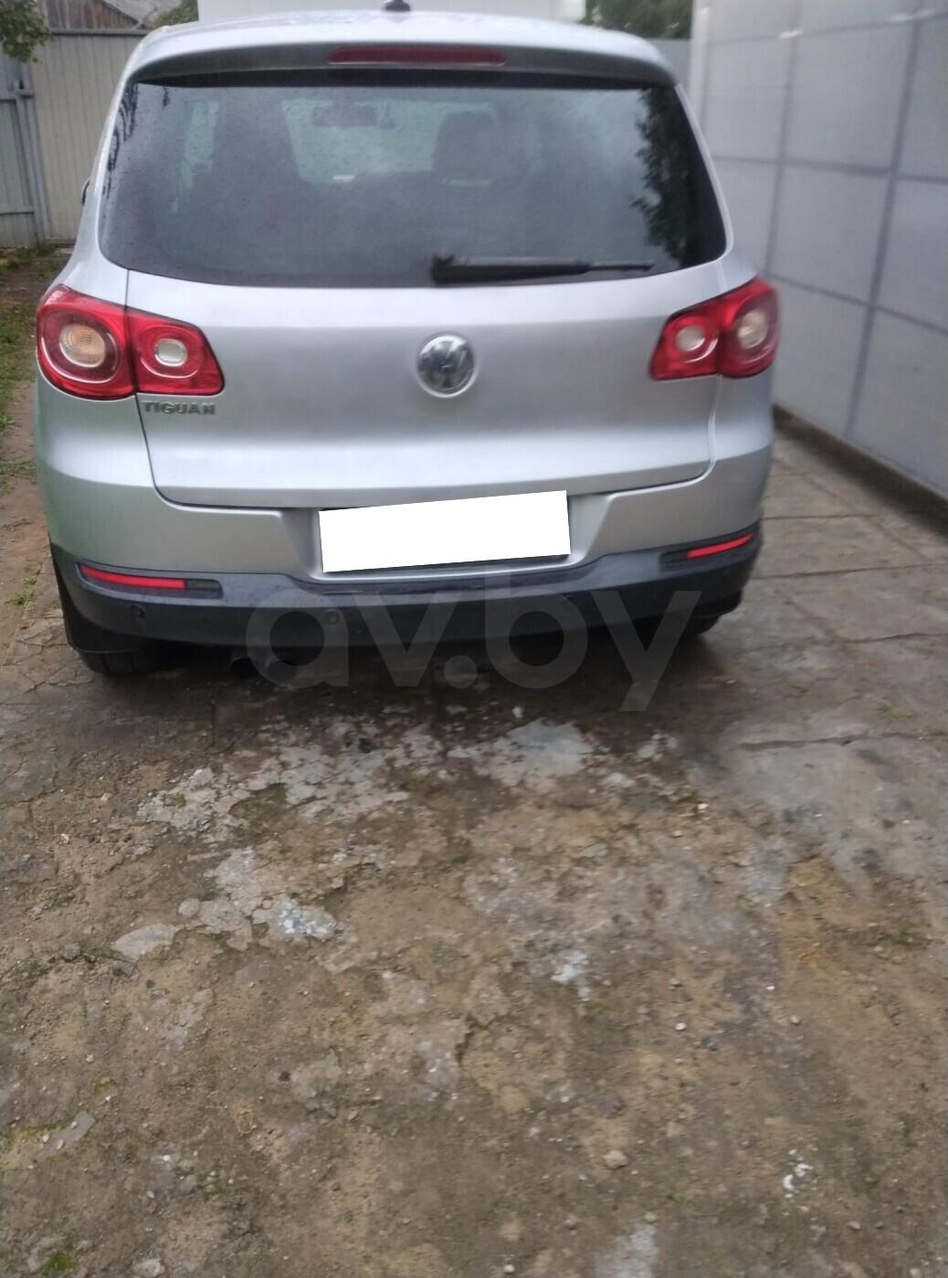Tiguan_2007-2011: (26, 0, 771, 686)
